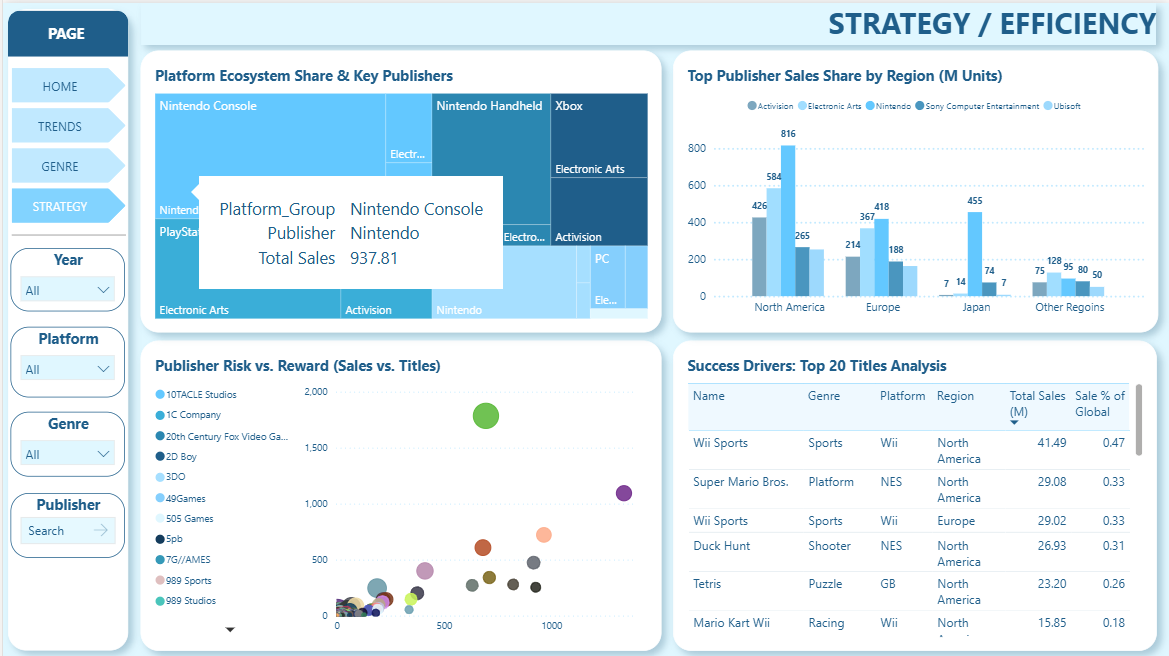

Layout of this report page (visuals, bound fields, positions):
{"tool":"powerbi","page":{"name":"STRATEGY","canvas":[1280,720],"ordinal":3},"visuals":[{"type":"shape","box":[5.5,6.9,132,703.9],"z":0},{"type":"textbox","box":[150.8,0,1115.3,45.8],"z":1000},{"type":"shape","box":[5.1,8.5,132.2,50.8],"z":2000},{"type":"textbox","box":[18.6,22,100,32.2],"z":3000},{"type":"tableEx","title":"Success Drivers: Top 20 Titles Analysis","fields":{"Values":["Data_Cleaned.Name","Data_Cleaned.Genre","Data_Cleaned.Platform","Data_Cleaned.Region","Massue.Total Sales","Massue.Sale % of Global"]},"box":[735.3,371.1,531.1,340.4],"z":4000},{"type":"clusteredColumnChart","title":"Top Publisher Sales Share by Region (M Units)","fields":{"Category":["Data_Cleaned.Region"],"Y":["Massue.Total Sales"],"Series":["Data_Cleaned.Publisher"]},"box":[735.3,52.8,532.8,309.8],"z":5000},{"type":"scatterChart","title":"Publisher Risk vs. Reward (Sales vs. Titles)","fields":{"Category":["Data_Cleaned.Publisher"],"Series":["Data_Cleaned.Publisher"],"Size":["Massue.AVG Per Games"],"X":["Massue.Total Unique Games"],"Y":["Massue.Total Sales"]},"box":[151.5,371.1,571.9,340.4],"z":6000},{"type":"slicer","title":"Genre","fields":{"Values":["Data_Cleaned.Genre"]},"box":[8.5,449.2,125.4,71.2],"z":7000},{"type":"slicer","title":"Platform","fields":{"Values":["Data_Cleaned.Publisher"]},"box":[8.5,355.9,125.4,78],"z":8000},{"type":"slicer","title":"Year","fields":{"Values":["Data_Cleaned.Year"]},"box":[8.5,269.5,125.4,69.5],"z":9000},{"type":"textSlicer","title":"Publisher","fields":{"Values":["Data_Cleaned.Publisher"]},"box":[8.5,537.3,125.4,71.2],"z":10000},{"type":"pageNavigator","box":[9,55.9,125.4,186.4],"z":11000},{"type":"shape","box":[9,242.4,125.4,23.7],"z":12000},{"type":"treemap","title":"Platform Ecosystem Share & Key Publishers ","fields":{"Group":["Data_Cleaned.Platform_Group"],"Values":["Massue.Total Sales"],"Details":["Data_Cleaned.Publisher"]},"box":[151.5,52.8,571.9,309.8],"z":12001}]}

Visuals, with their boxes in screenshot pixels (x1, y1, x2, y2), scaled from the page's 1280x720 canvas onto the 1169x656 screenshot:
shape: x1=5 y1=6 x2=126 y2=648
textbox: x1=138 y1=0 x2=1156 y2=42
shape: x1=5 y1=8 x2=125 y2=54
textbox: x1=17 y1=20 x2=108 y2=49
"Success Drivers: Top 20 Titles Analysis" tableEx: x1=672 y1=338 x2=1157 y2=648
"Top Publisher Sales Share by Region (M Units)" clusteredColumnChart: x1=672 y1=48 x2=1158 y2=330
"Publisher Risk vs. Reward (Sales vs. Titles)" scatterChart: x1=138 y1=338 x2=661 y2=648
"Genre" slicer: x1=8 y1=409 x2=122 y2=474
"Platform" slicer: x1=8 y1=324 x2=122 y2=395
"Year" slicer: x1=8 y1=246 x2=122 y2=309
"Publisher" textSlicer: x1=8 y1=490 x2=122 y2=554
pageNavigator: x1=8 y1=51 x2=123 y2=221
shape: x1=8 y1=221 x2=123 y2=242
"Platform Ecosystem Share & Key Publishers " treemap: x1=138 y1=48 x2=661 y2=330
